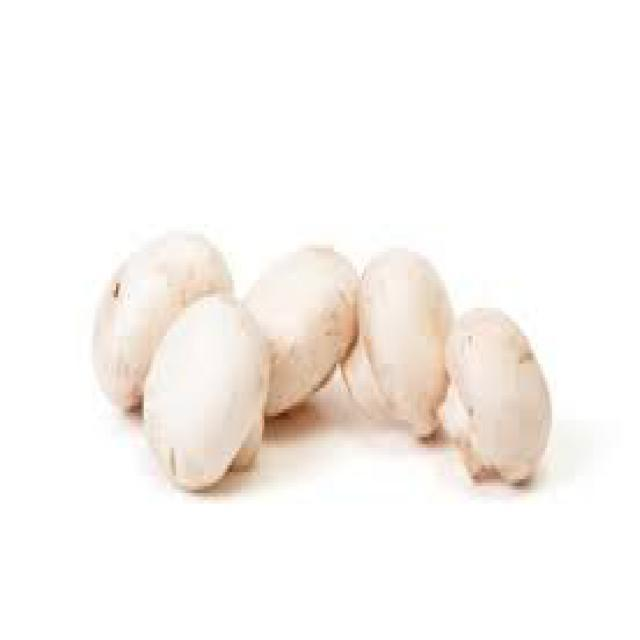Agaricus bisporus: (92, 227, 551, 495)
